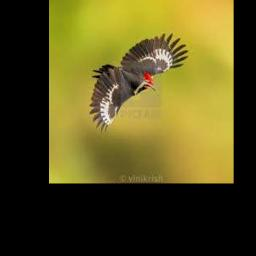Woodpecker: (89, 33, 189, 132)
